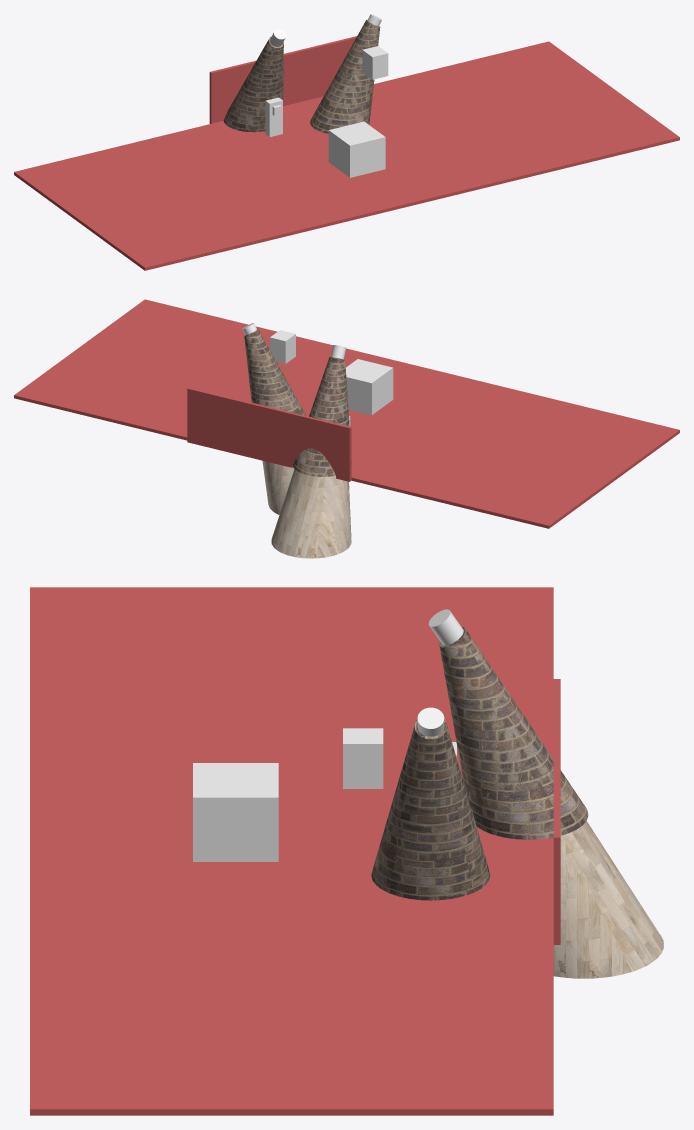
File: In Class Interactions.fbx
3 views of the same model, one above another, from view 1: azimuth 30°, elevation 25°; view 2: azimuth 150°, elevation 25°; view 3: azimuth 270°, elevation 25° (orthographic). The views are drawn at different scales.
Parts seen in each view (by area): view 1: Existing Surfaces, Cones Exterior, Working; view 2: Existing Surfaces, Cone Interior, Cones Exterior, Working; view 3: Existing Surfaces, Cones Exterior, Working, Cone Interior.
Boxes of the visible parts, box(x1,y1,x2,y2) form: Existing Surfaces: box(14, 36, 679, 270); Cones Exterior: box(223, 19, 380, 133); Working: box(265, 14, 388, 177); Existing Surfaces: box(14, 299, 679, 528); Cone Interior: box(262, 460, 351, 558); Cones Exterior: box(244, 328, 351, 476); Working: box(242, 323, 393, 426); Existing Surfaces: box(30, 587, 560, 1115); Cones Exterior: box(371, 626, 588, 900); Working: box(193, 609, 463, 861); Cone Interior: box(510, 821, 663, 978).
Bounding box in the file's own units: 8028 × 4121 × 2458.
Materials: 5 (3 with a texture image).
